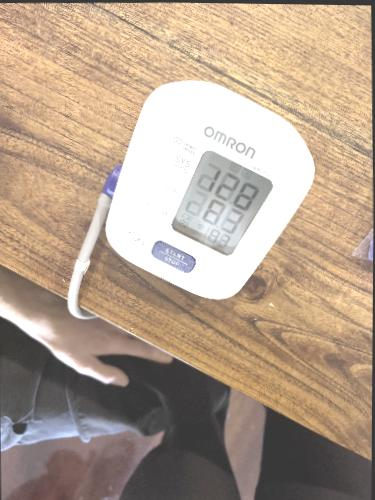bpm: (164, 147, 277, 264)
